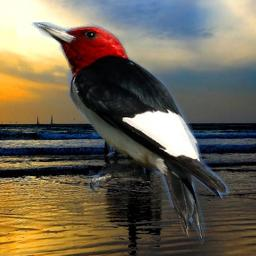Woodpecker: (30, 22, 234, 245)
